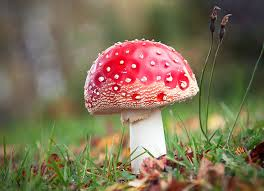Amanita muscaria: (71, 25, 203, 162)
